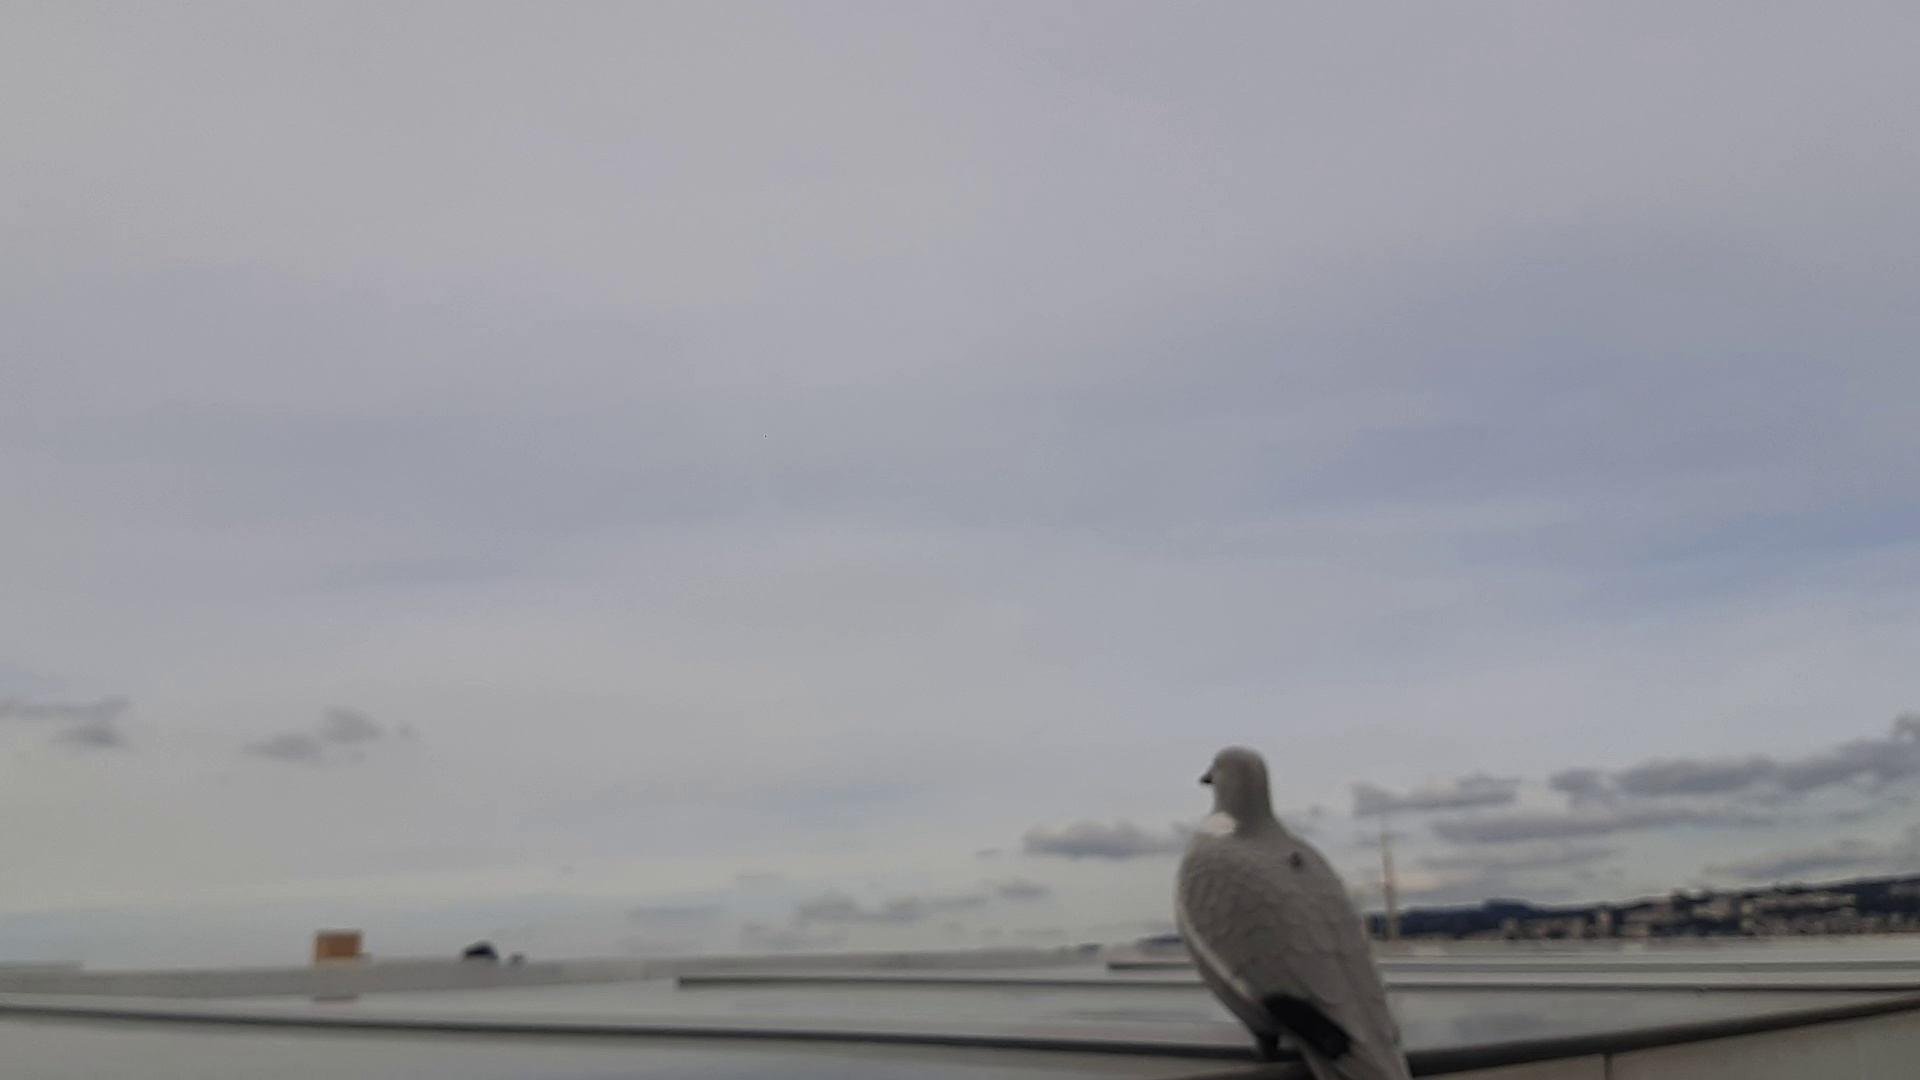Pigeon: (1156, 735, 1412, 1080)
